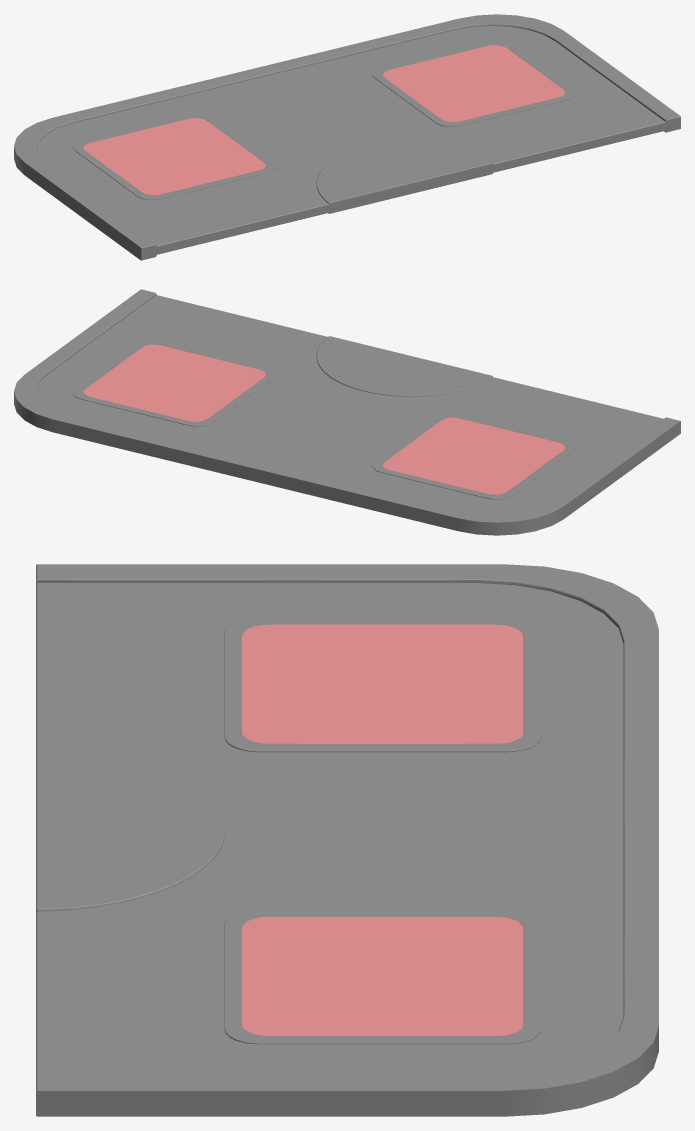
File: SpaceHangarFloor_01.gltf
The picture shows the model from 3 angles, top to bottom: view 1: azimuth 30°, elevation 25°; view 2: azimuth 150°, elevation 25°; view 3: azimuth 270°, elevation 25°; orthographic projection. The views are drawn at different scales.
Parts seen in each view (by area): view 1: SpaceHangarFloor_01; view 2: SpaceHangarFloor_01; view 3: SpaceHangarFloor_01.
Boxes of the visible parts, <box> form: SpaceHangarFloor_01: <box>14,14,680,260</box>; SpaceHangarFloor_01: <box>14,289,680,535</box>; SpaceHangarFloor_01: <box>36,564,658,1116</box>.
Size of the model in its own units: 199 by 4.56 by 99.51.
